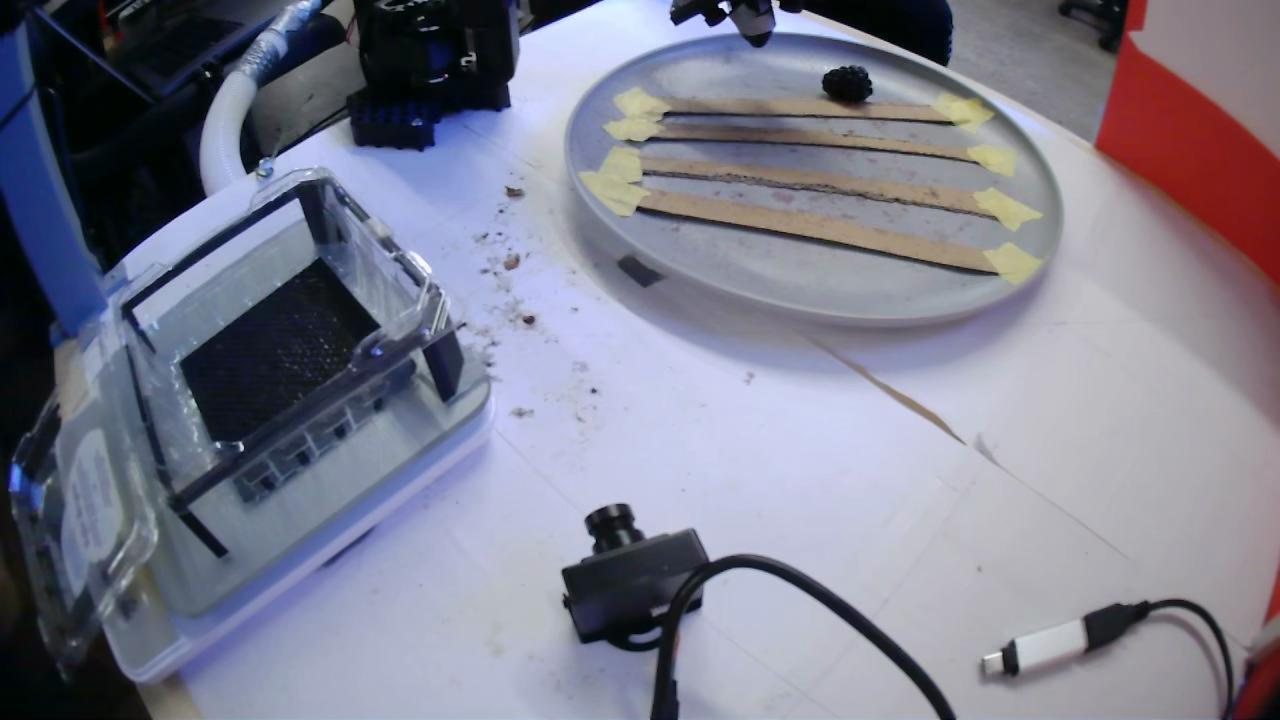berry: (823, 66, 872, 103)
